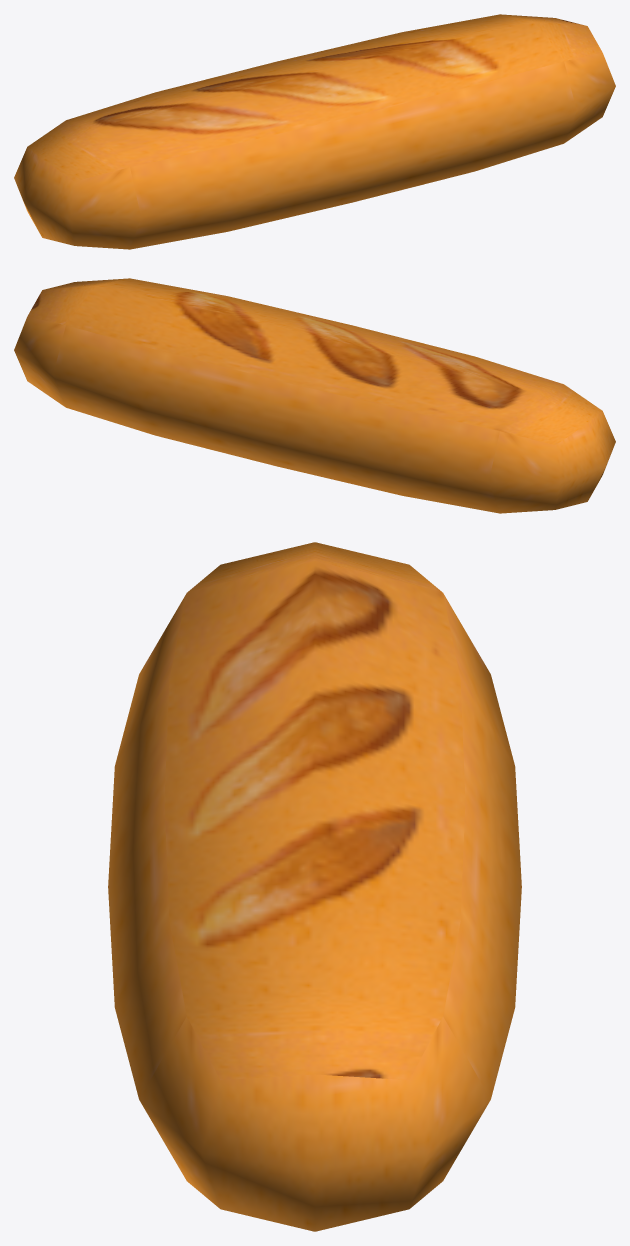
The model's file is Bread.fbx.
3 renders of one model, top to bottom at view 1: azimuth 30°, elevation 25°; view 2: azimuth 150°, elevation 25°; view 3: azimuth 270°, elevation 25°, orthographic. The views are drawn at different scales.
Visible parts, largest first — view 1: Bread; view 2: Bread; view 3: Bread.
Boxes of the visible parts, x1,y1,x2,y2 form: Bread: [14, 14, 615, 249]; Bread: [14, 278, 615, 513]; Bread: [108, 542, 521, 1231].
Bounding box in the file's own units: 25.96 × 5.05 × 8.
Materials: 1 (1 with a texture image).
